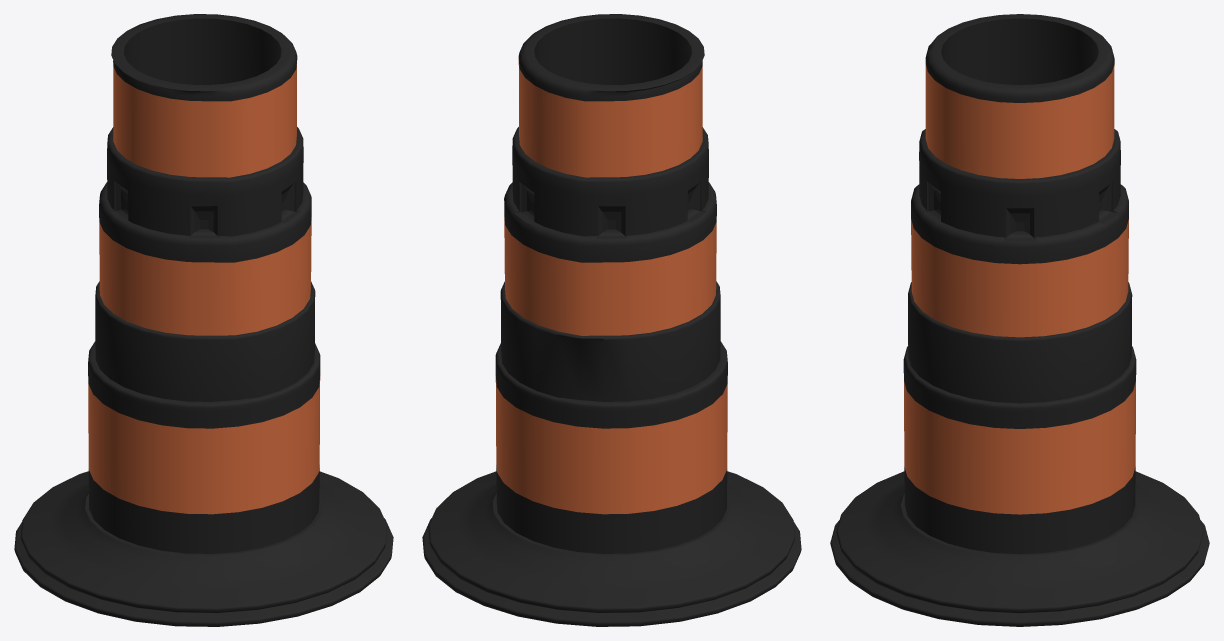
The model's file is Construction_Pylon.fbx.
The picture shows the model from 3 angles, left to right: view 1: azimuth 30°, elevation 25°; view 2: azimuth 150°, elevation 25°; view 3: azimuth 270°, elevation 25°; orthographic projection.
Visible parts, largest first — view 1: Construction Pylon, PylonBase1, PylonBase2; view 2: Construction Pylon, PylonBase1, PylonBase2; view 3: Construction Pylon, PylonBase1, PylonBase2.
Part boxes in pixels (left/top/right/bottom): Construction Pylon: left=88, top=14, right=320, bottom=553; PylonBase1: left=20, top=471, right=387, bottom=612; PylonBase2: left=14, top=518, right=393, bottom=626; Construction Pylon: left=495, top=14, right=727, bottom=553; PylonBase1: left=428, top=471, right=795, bottom=612; PylonBase2: left=422, top=518, right=801, bottom=626; Construction Pylon: left=903, top=14, right=1136, bottom=554; PylonBase1: left=836, top=471, right=1203, bottom=613; PylonBase2: left=830, top=520, right=1209, bottom=626.
Size of the model in its own units: 232 by 334 by 232.
